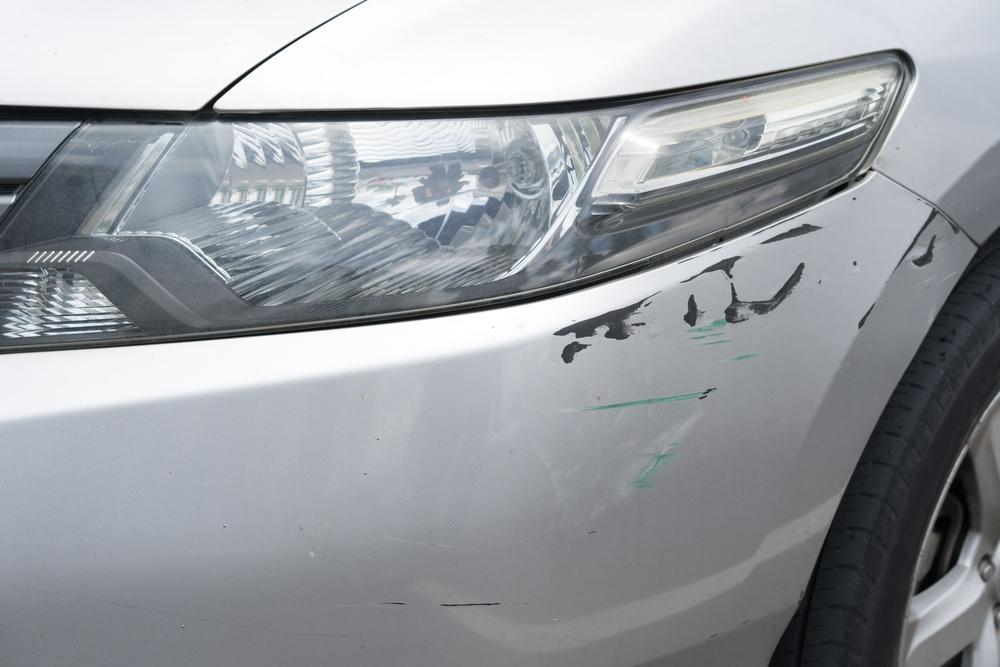scratch: (551, 204, 953, 517), (360, 597, 537, 614)
